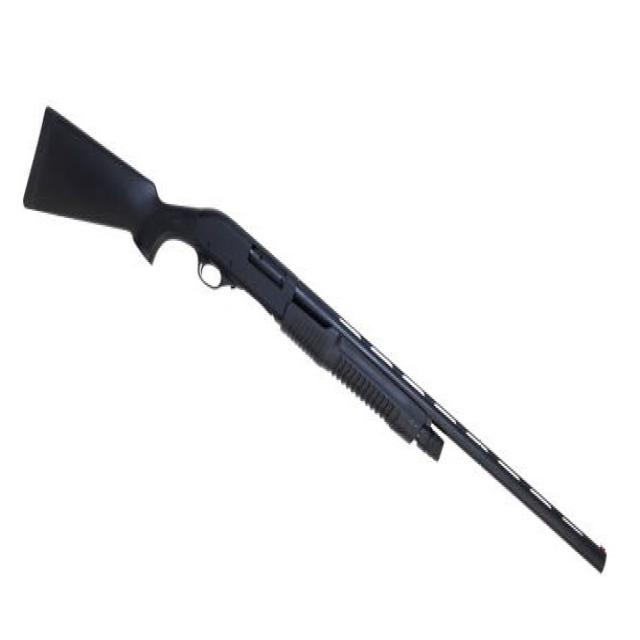rifle: (16, 99, 617, 578)
